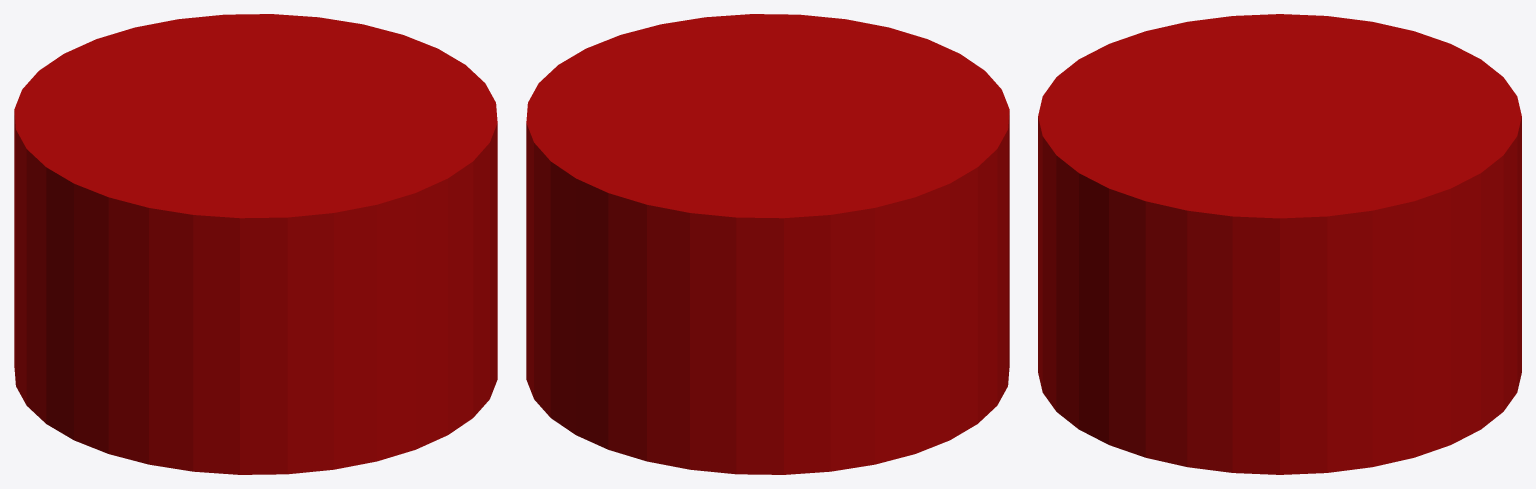
The model's file is Enemy_Body1.obj.
3 views of the same model, side by side, from view 1: azimuth 30°, elevation 25°; view 2: azimuth 150°, elevation 25°; view 3: azimuth 270°, elevation 25° (orthographic).
Parts seen in each view (by area): view 1: 円柱.002; view 2: 円柱.002; view 3: 円柱.002.
Boxes of the visible parts, x1,y1,x2,y2 form: 円柱.002: [14, 14, 497, 474]; 円柱.002: [526, 14, 1009, 474]; 円柱.002: [1038, 14, 1521, 474].
Bounding box in the file's own units: 2 × 1.17 × 2.
